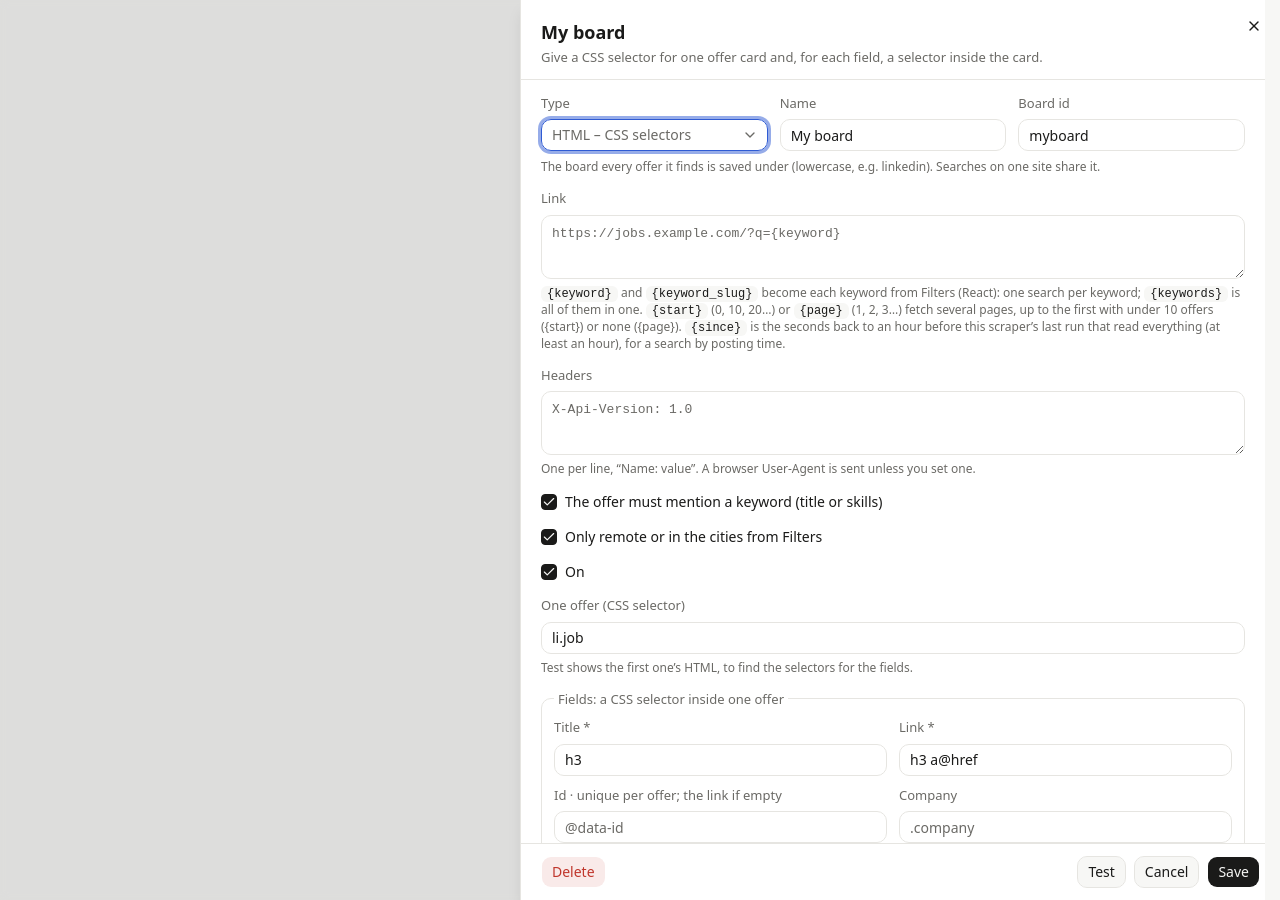
Test case: ScraperEditor › asks before an existing scraper changes its type, and changes nothing on Cancel
The image size is (1280, 900).
Select "JustJoin API" in the dropdown labelled "Type" at point(654, 135), box [541,119,768,151]
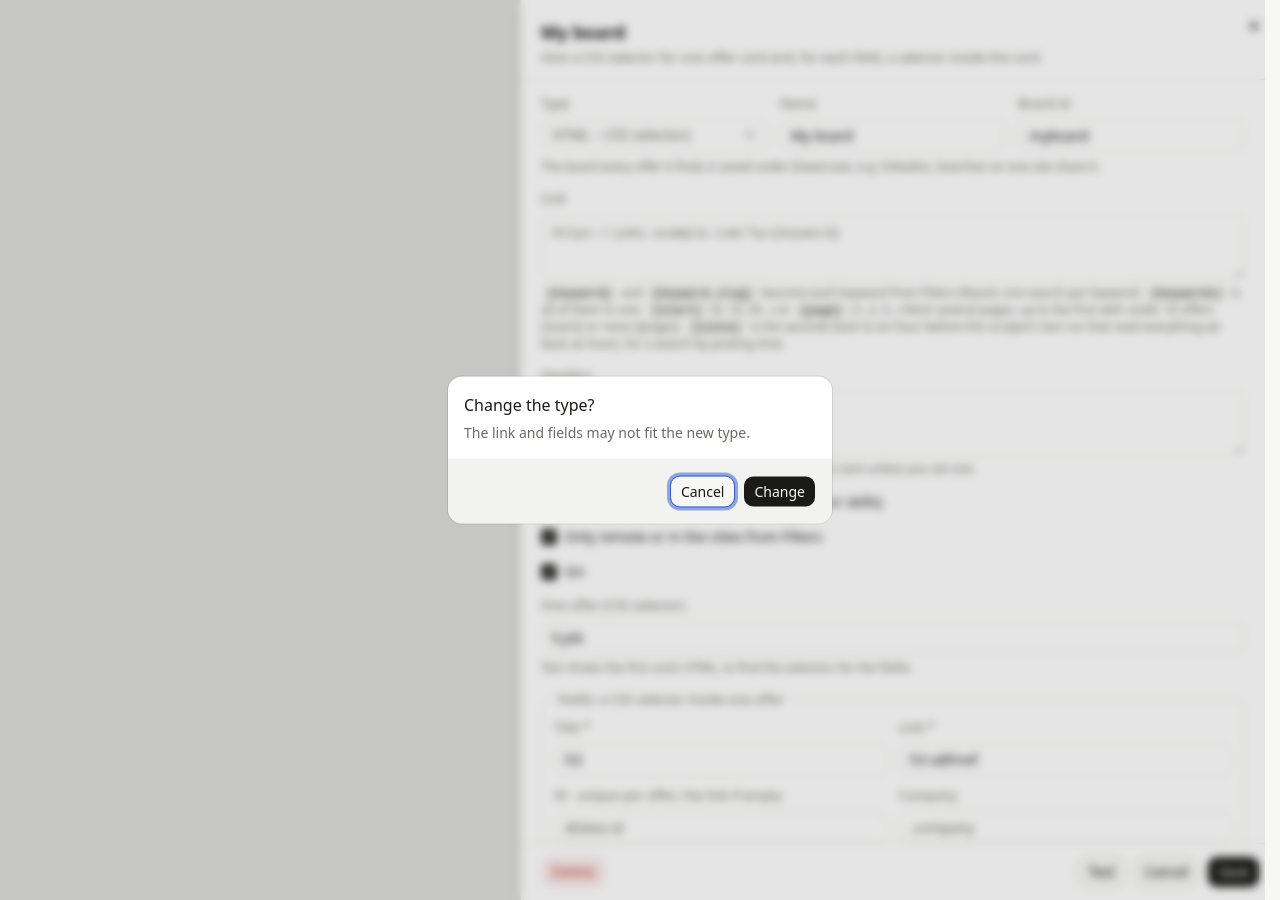
Check: the heading "Change the type?" is shown, box [464,392,594,416]
Click the button "Cancel" at point(703, 492), box [670,476,736,508]
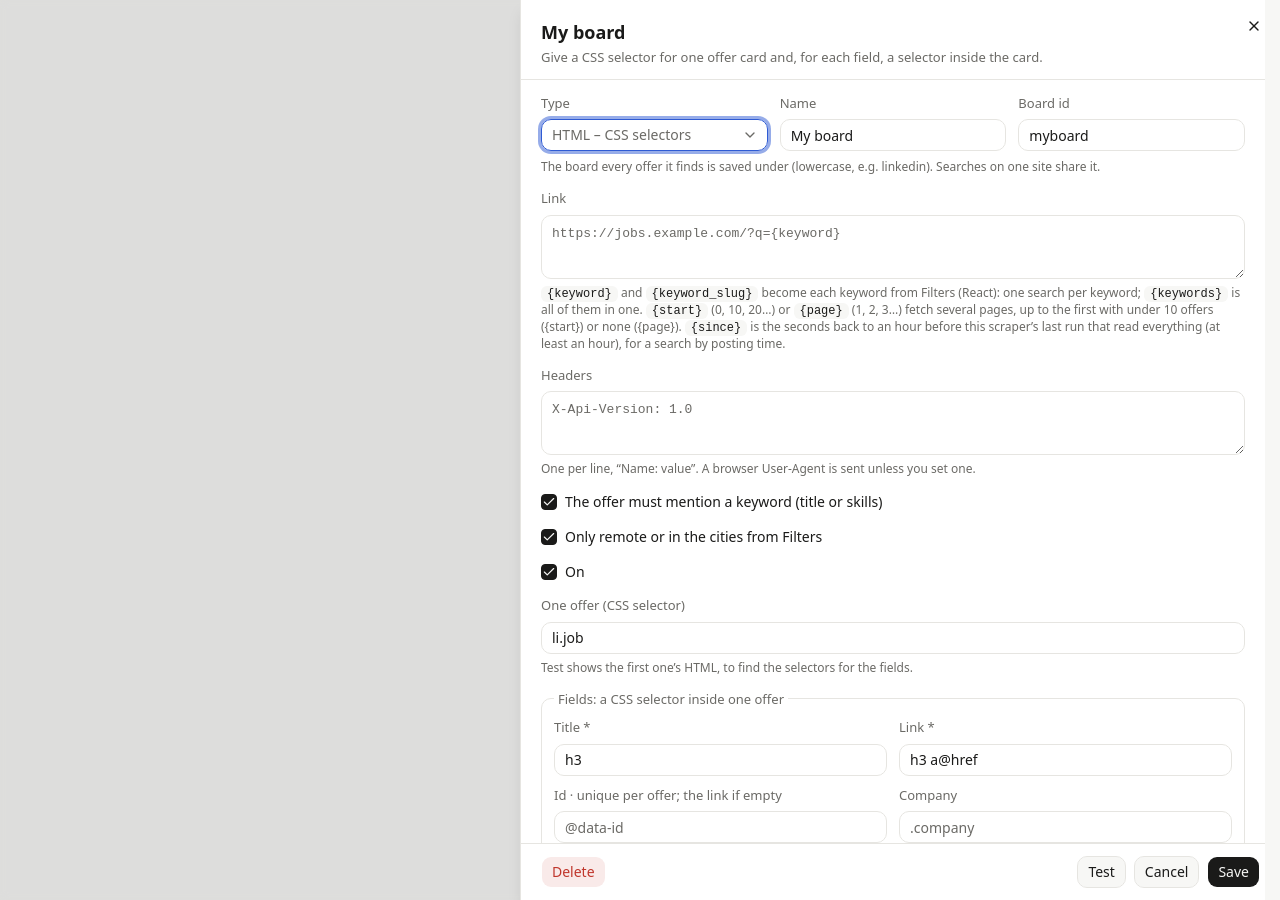
Check: the field labelled "Board id" holds "myboard", box [1018,119,1245,151]
Check: the field labelled "One offer (CSS selector)" holds "li.job", box [541,622,1245,654]
Select "JustJoin API" in the dropdown labelled "Type" at point(654, 135), box [541,119,768,151]
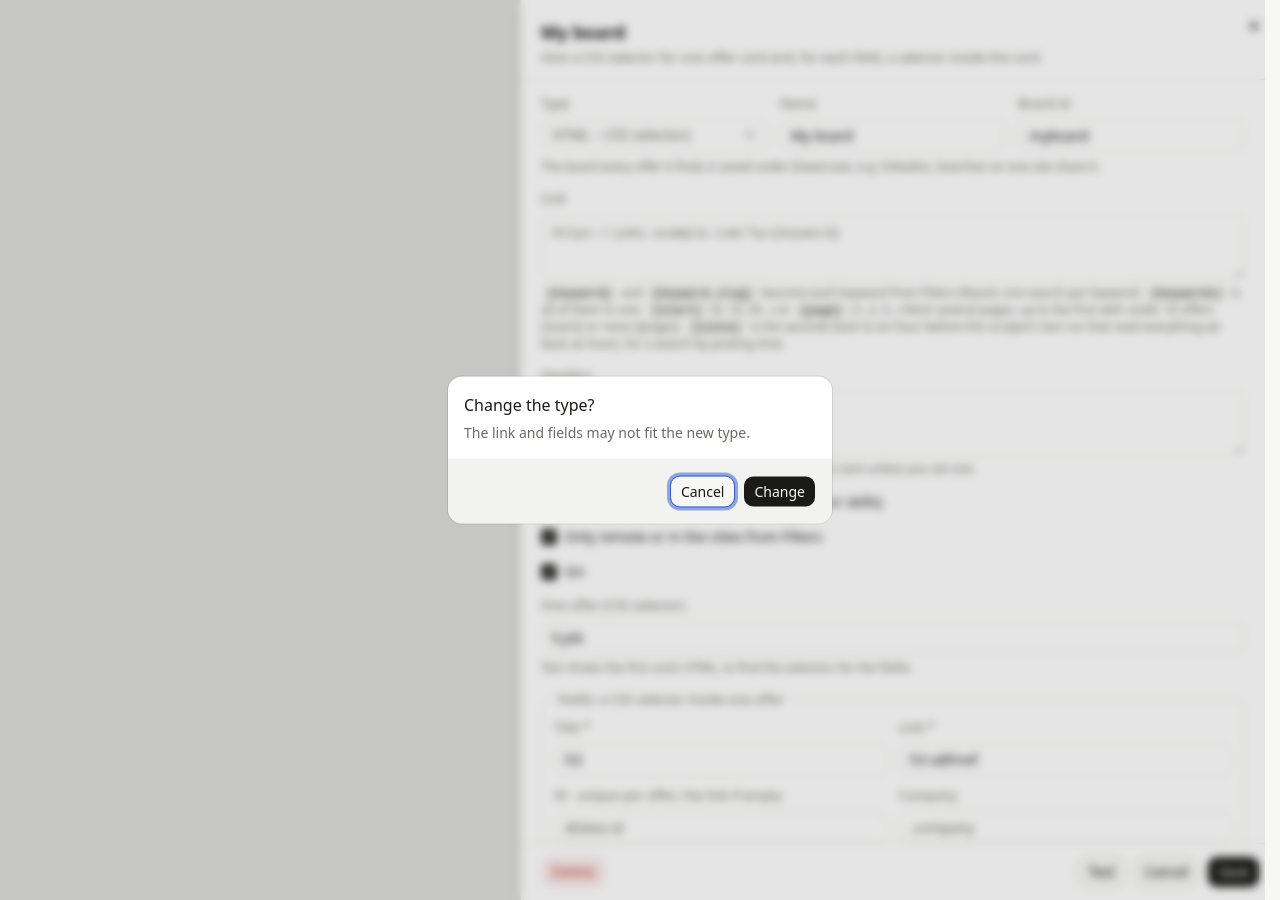
Click the button "Change" at point(780, 492), box [744,476,816,508]
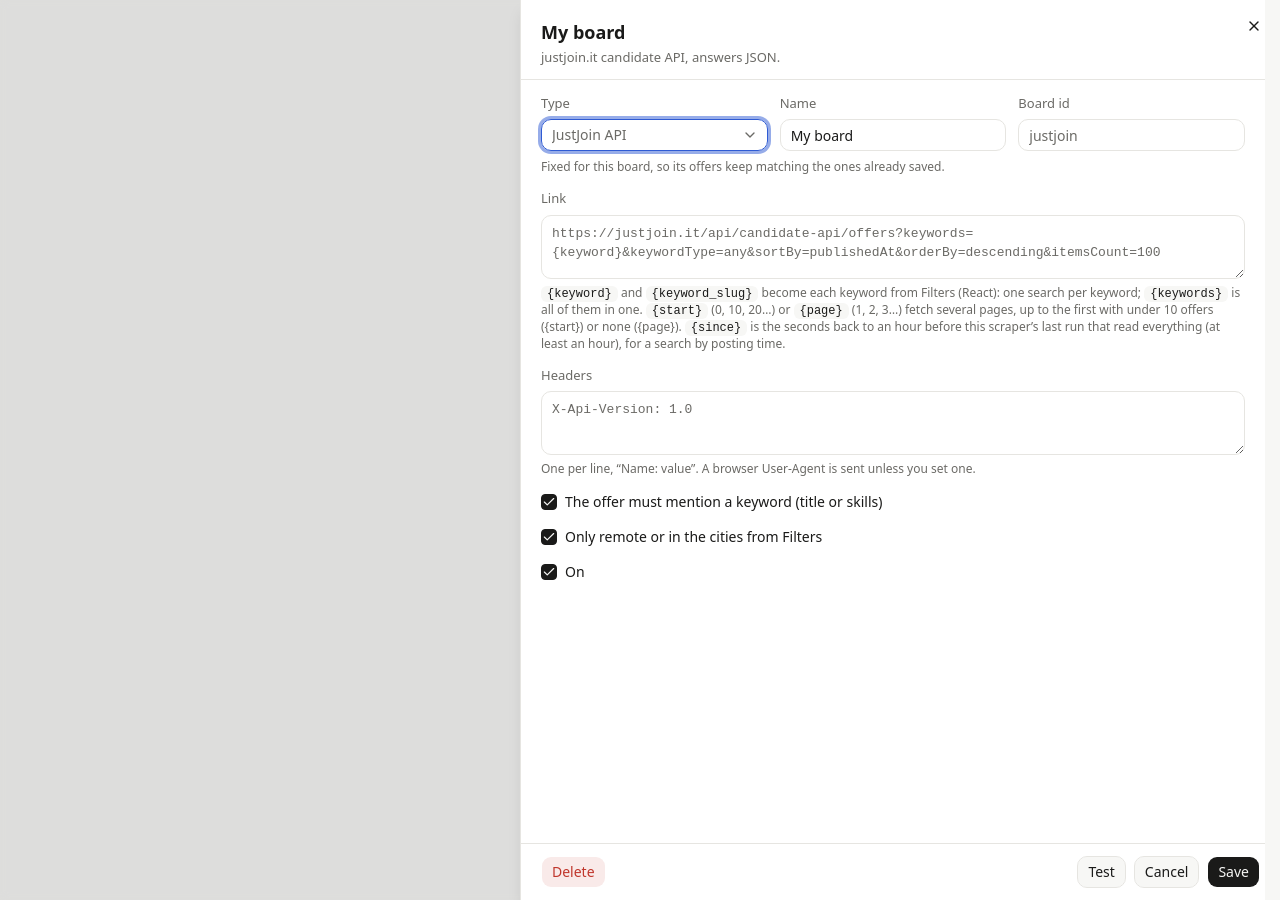
Check: the field labelled "Board id" holds "justjoin", box [1018,119,1245,151]
Check: the text box labelled "Link" holds "https://justjoin.it/api/candidate-api/offers?keywords={keyword}&keywordType=any&sortBy=publishedAt&orderBy=descending&itemsCount=100", box [541,215,1245,279]
Check: the label labelled "One offer (CSS selector)" is gone
